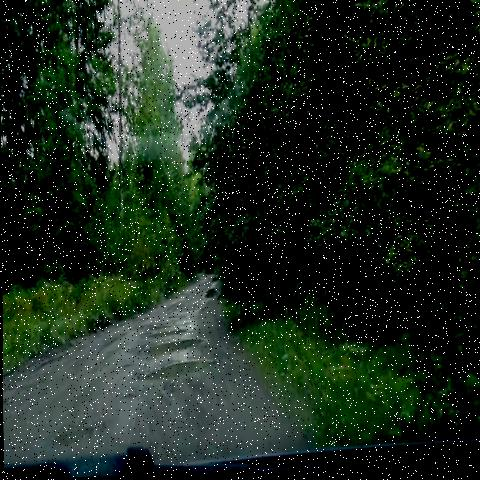pothole: (137, 352, 227, 394), (46, 415, 110, 462), (137, 330, 215, 368), (135, 308, 201, 347), (194, 273, 223, 308), (118, 384, 140, 405), (115, 357, 137, 377)
